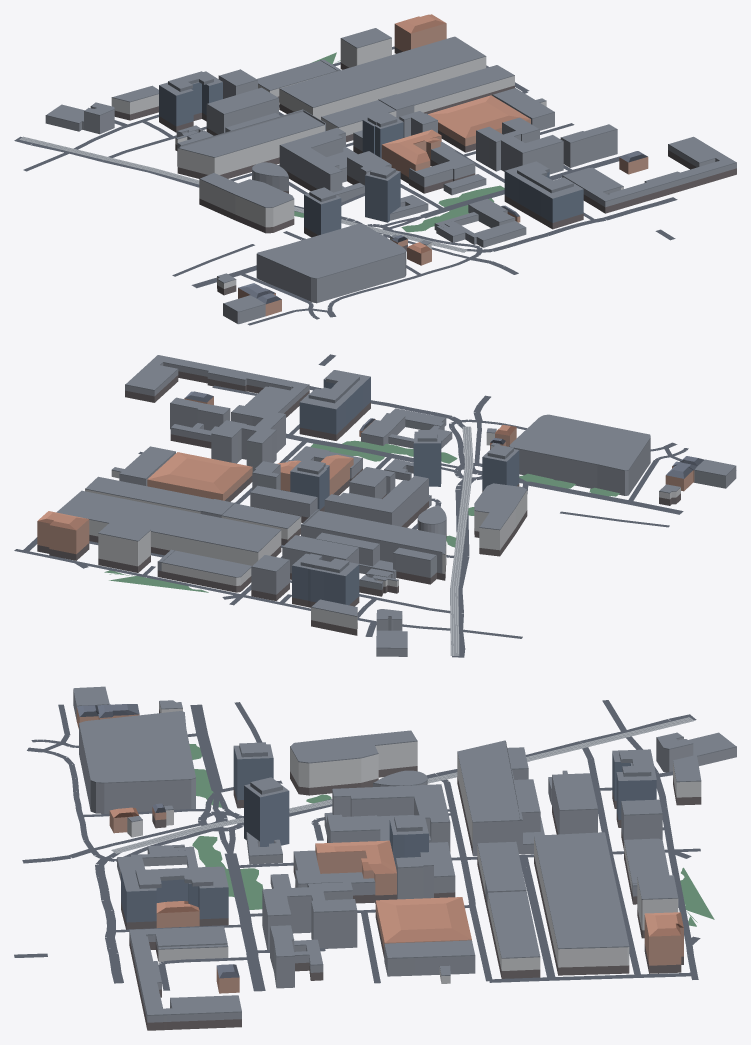
File: tile_2_5_lod0.glb
3 views of the same model, one above another, from view 1: azimuth 30°, elevation 25°; view 2: azimuth 150°, elevation 25°; view 3: azimuth 270°, elevation 25° (orthographic). The views are drawn at different scales.
Visible parts, largest first — view 1: TileRoot; view 2: TileRoot; view 3: TileRoot.
Part boxes in pixels (x1,y1,x2,y2): TileRoot: [14, 14, 736, 325]; TileRoot: [14, 354, 736, 657]; TileRoot: [14, 686, 736, 1030].
Size of the model in its own units: 464 by 37.59 by 431.
